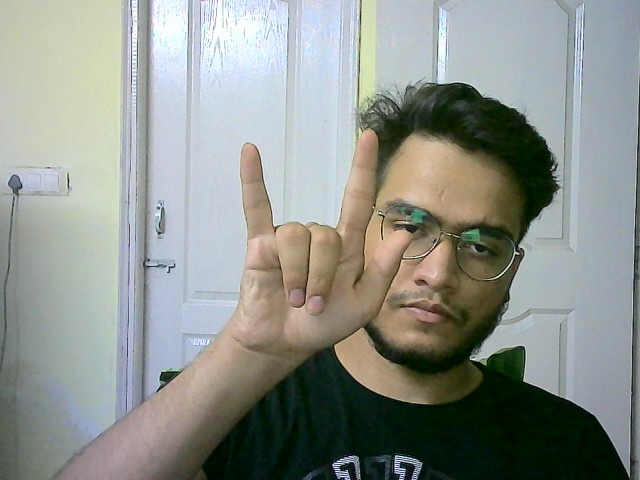I Love You: (234, 124, 414, 368)
